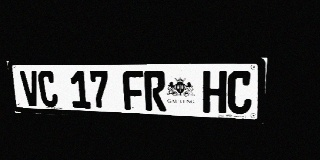1: (69, 71, 91, 108)
7: (88, 71, 111, 109)
C: (227, 71, 253, 114), (37, 71, 59, 107)
F: (122, 71, 145, 110)
H: (203, 71, 227, 113)
R: (144, 71, 166, 111)
V: (19, 71, 41, 107)
